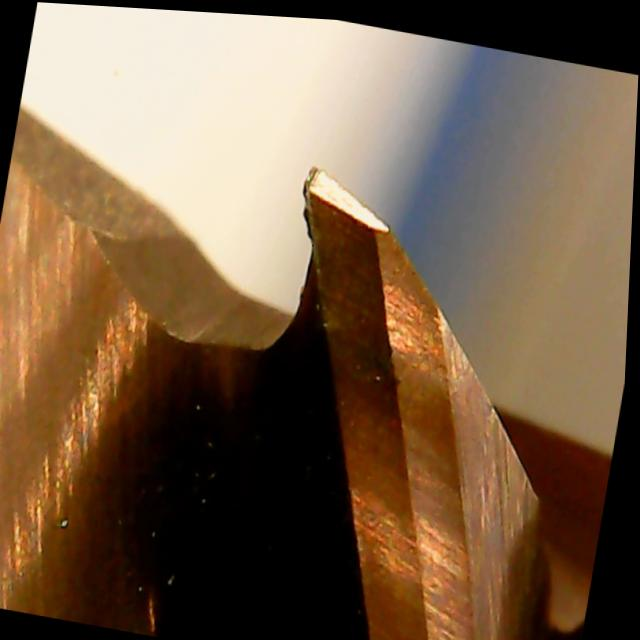Tool-wear-class-1: (266, 143, 443, 359)
